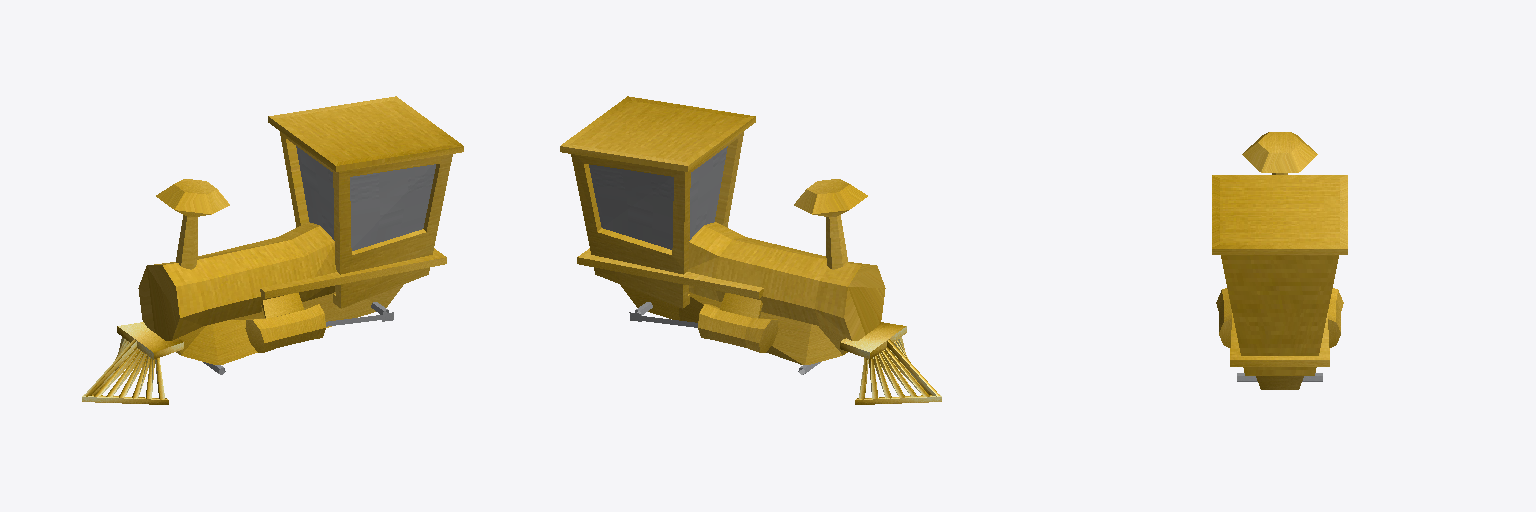
3 renders of one model, left to right at view 1: azimuth 30°, elevation 25°; view 2: azimuth 150°, elevation 25°; view 3: azimuth 270°, elevation 25°, orthographic.
Parts seen in each view (by area): view 1: toon_train.007_toon_train.010, toon_train.006_toon_train.009; view 2: toon_train.007_toon_train.010, toon_train.006_toon_train.009; view 3: toon_train.007_toon_train.010.
Boxes of the visible parts, <box> form: toon_train.007_toon_train.010: <box>82,96,463,404</box>; toon_train.006_toon_train.009: <box>203,146,435,374</box>; toon_train.007_toon_train.010: <box>560,96,941,404</box>; toon_train.006_toon_train.009: <box>589,146,820,374</box>; toon_train.007_toon_train.010: <box>1212,132,1347,389</box>.
Bounding box in the file's own units: 8.13 × 4.61 × 2.75.
2 materials, 2 textured.